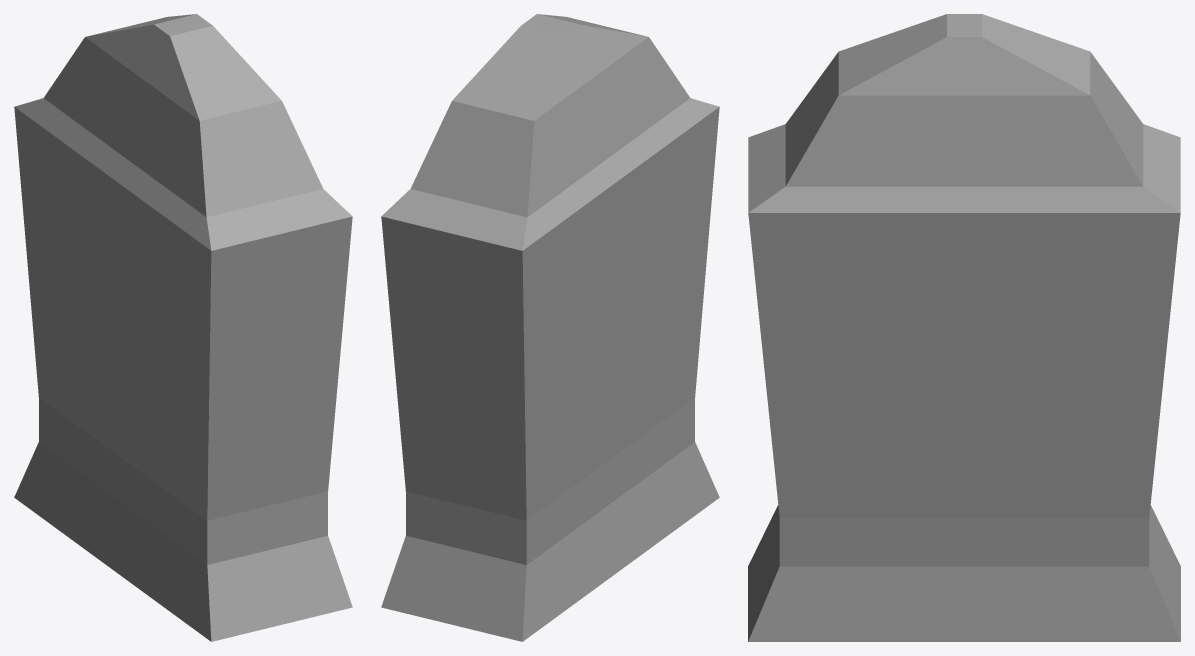
Rendered from tombstone3.fbx.
3 views of the same model, side by side, from view 1: azimuth 30°, elevation 25°; view 2: azimuth 150°, elevation 25°; view 3: azimuth 270°, elevation 25° (orthographic). The views are drawn at different scales.
Visible parts, largest first — view 1: tombstone3; view 2: tombstone3; view 3: tombstone3.
Part boxes in pixels (x1,y1,x2,y2): tombstone3: (14,14,352,641); tombstone3: (381,14,719,641); tombstone3: (748,14,1180,641).
Bounding box in the file's own units: 81.7 × 291 × 197.
